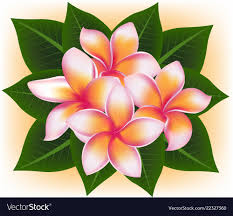frangipani: (70, 85, 166, 181)
